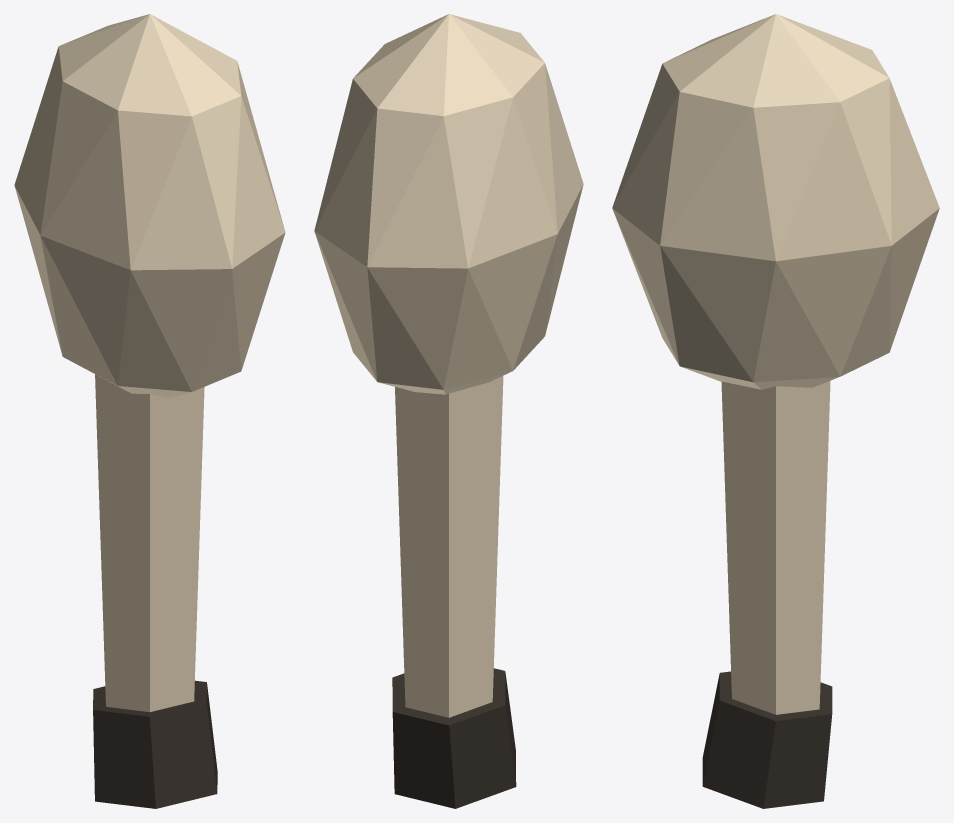
File: calf_1_leg_br.glb
3 views of the same model, side by side, from view 1: azimuth 30°, elevation 25°; view 2: azimuth 150°, elevation 25°; view 3: azimuth 270°, elevation 25° (orthographic).
Parts seen in each view (by area): view 1: calf_1_leg_br; view 2: calf_1_leg_br; view 3: calf_1_leg_br.
Boxes of the visible parts, <box> form: calf_1_leg_br: <box>14,14,285,808</box>; calf_1_leg_br: <box>314,14,583,808</box>; calf_1_leg_br: <box>612,14,939,808</box>.
Size of the model in its own units: 0.128 by 0.4329 by 0.1664.
